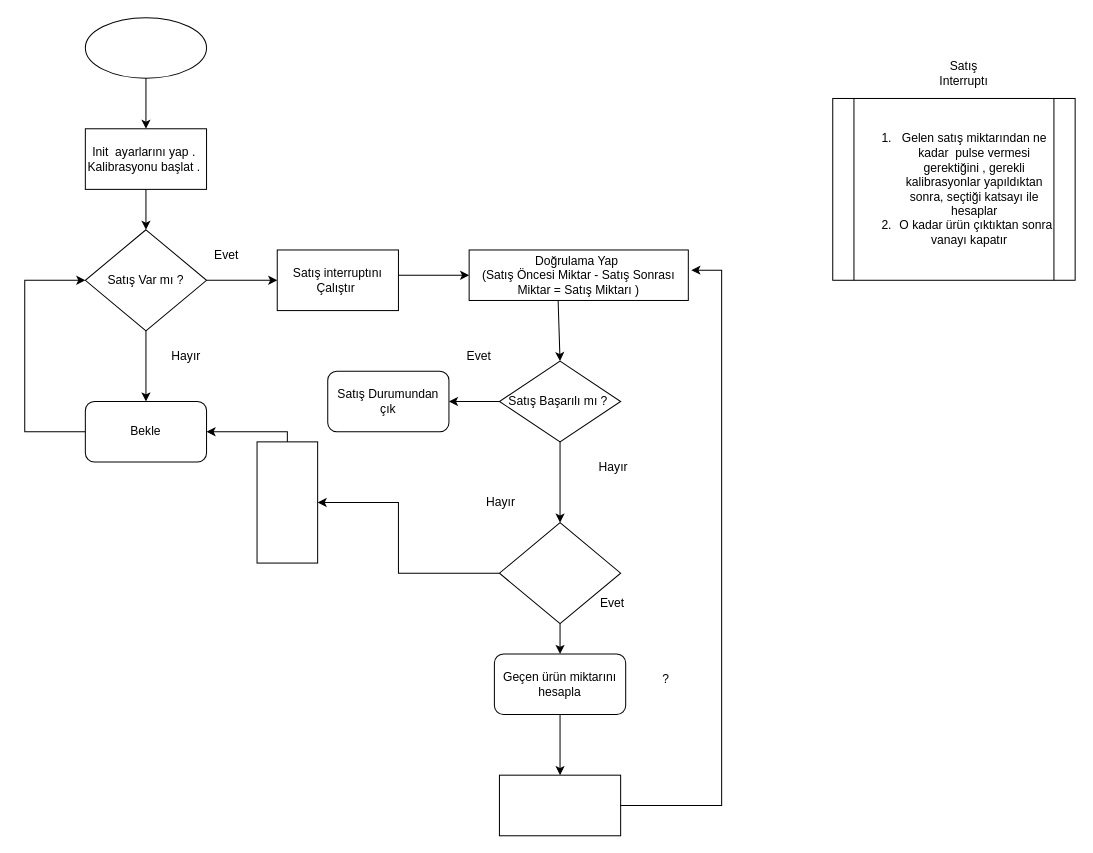
This 1093x853 diagram has some shape labels left out. Here are the shapes that lost their labels. From the top down, the box of each, then its label:
(84, 17, 207, 78): Başla
(256, 441, 318, 563): Satış Hatası Ver
(498, 522, 621, 624): Hiç ürün geçişi sağlandı mı ?
(498, 774, 621, 836): Telafi Satışı Yap
